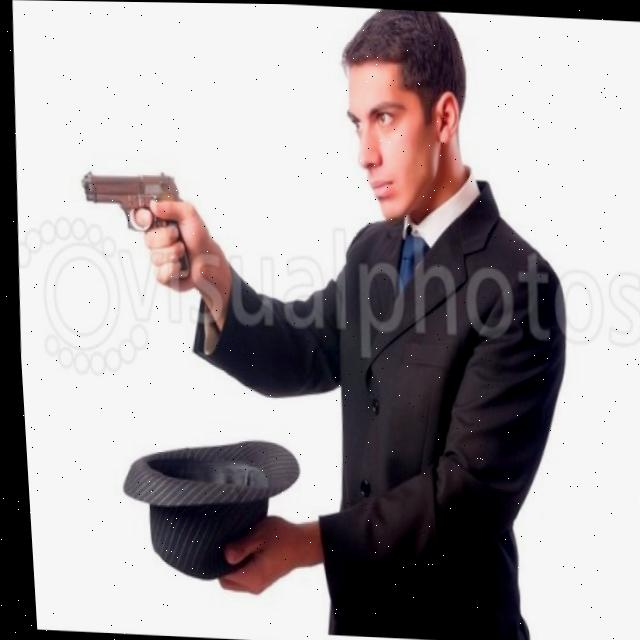pistol: (72, 163, 183, 233)
